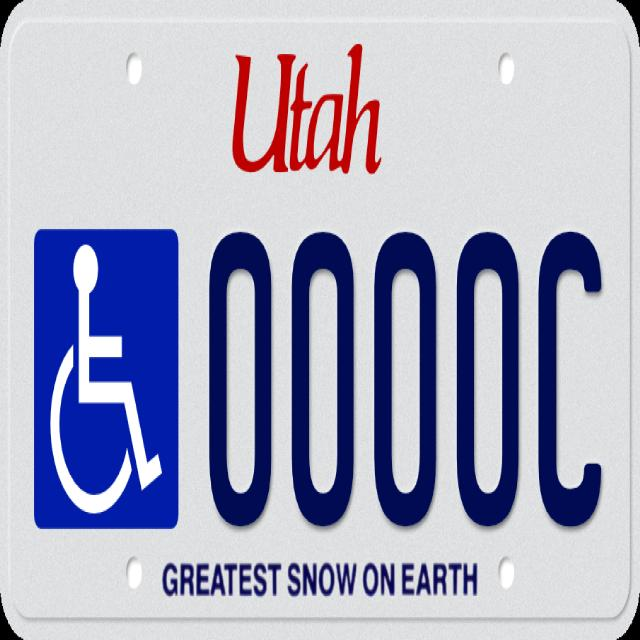symbol_of_access: (40, 232, 172, 525)
